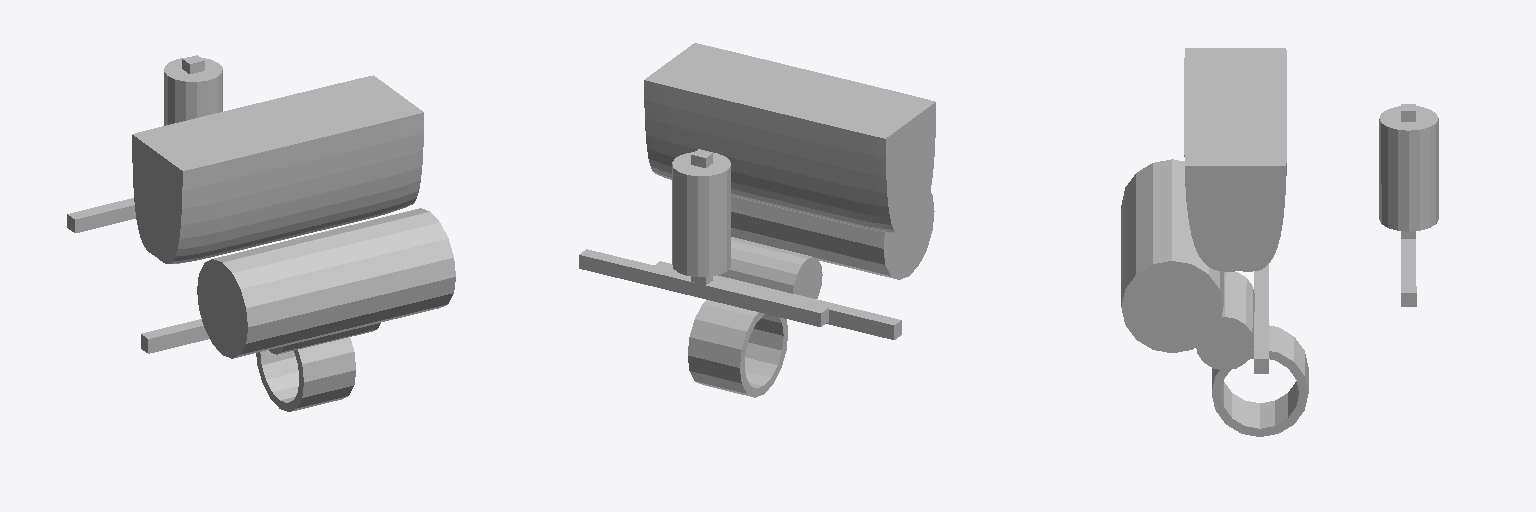
File: centerRight.obj
3 views of the same model, side by side, from view 1: azimuth 30°, elevation 25°; view 2: azimuth 150°, elevation 25°; view 3: azimuth 270°, elevation 25° (orthographic).
Visible parts, largest first — view 1: Cube.012; view 2: Cube.012; view 3: Cube.012.
Part boxes in pixels (left/top/right/bottom): Cube.012: left=67, top=55, right=455, bottom=411; Cube.012: left=579, top=43, right=935, bottom=397; Cube.012: left=1121, top=48, right=1438, bottom=436.
Size of the model in its own units: 0.3647 by 0.4298 by 0.4149.